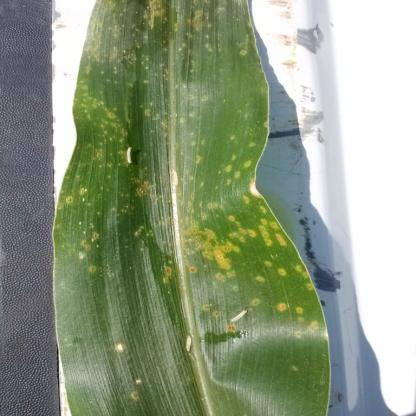corn rust leaf: (55, 0, 331, 416)
